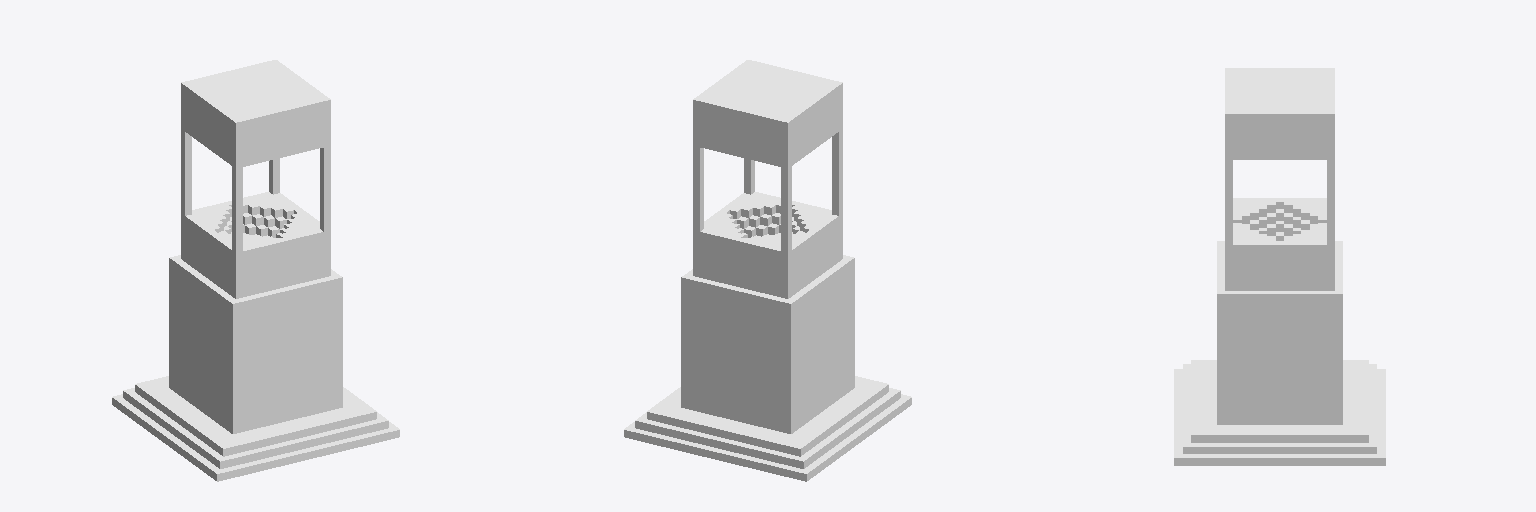
The model's file is turretBase.obj.
3 views of the same model, side by side, from view 1: azimuth 30°, elevation 25°; view 2: azimuth 150°, elevation 25°; view 3: azimuth 270°, elevation 25° (orthographic).
Visible parts, largest first — view 1: turretbase; view 2: turretbase; view 3: turretbase.
Boxes of the visible parts, x1=… form: turretbase: x1=112, y1=60, x2=399, y2=481; turretbase: x1=624, y1=60, x2=911, y2=481; turretbase: x1=1174, y1=68, x2=1385, y2=465.
Bounding box in the file's own units: 2.5 × 4.3 × 2.5.